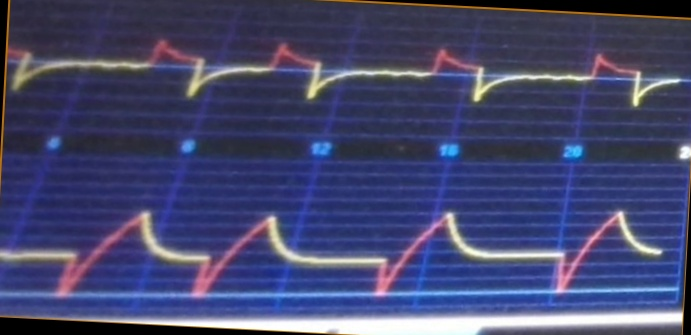Flow: (10, 30, 676, 126)
Leakage Volume: (1, 199, 658, 306)
